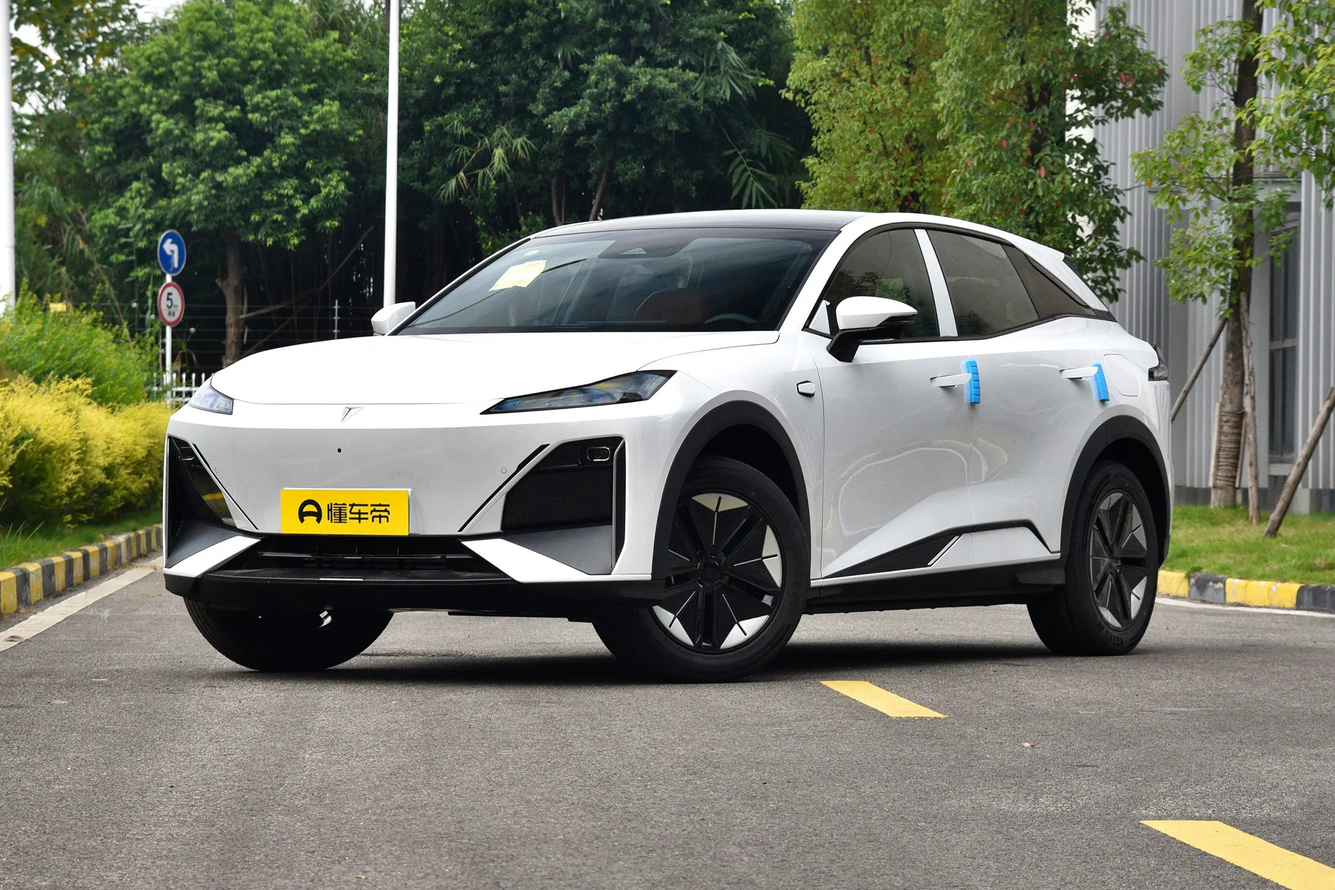Deepal: (340, 407, 362, 423)
